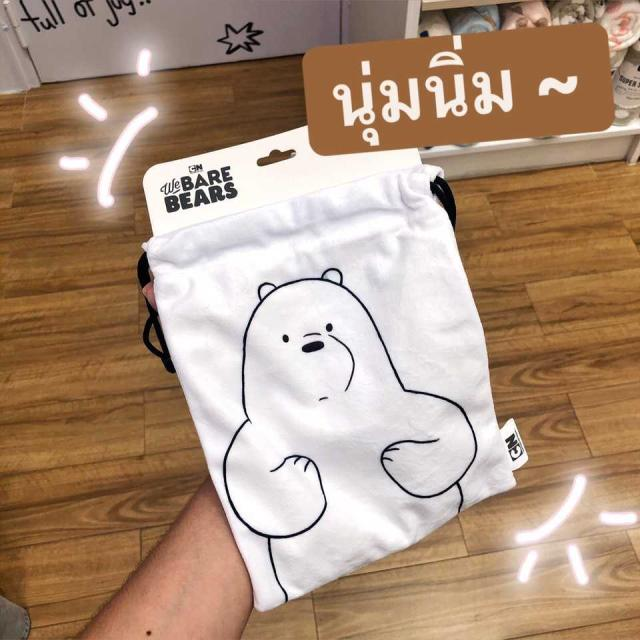handbag: (127, 147, 538, 620)
